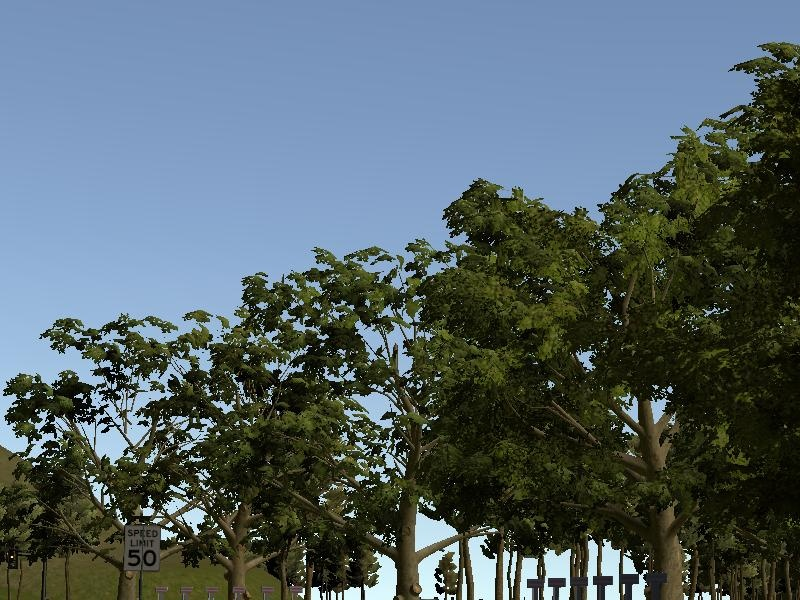yellow: (6, 543, 20, 570)
